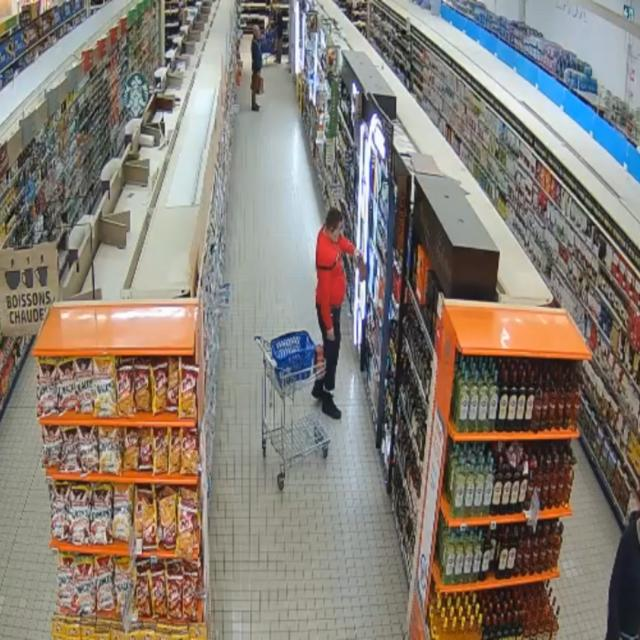article: (356, 254, 367, 282)
bags: (257, 75, 264, 94)
hands: (327, 328, 335, 341), (355, 250, 362, 261)
person: (312, 208, 361, 419), (251, 25, 262, 111)
